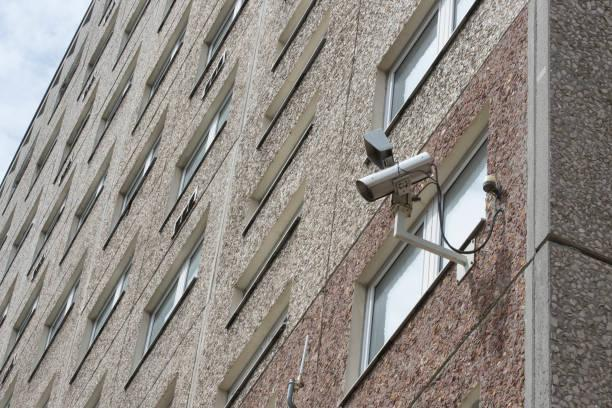camera: (346, 124, 441, 215)
